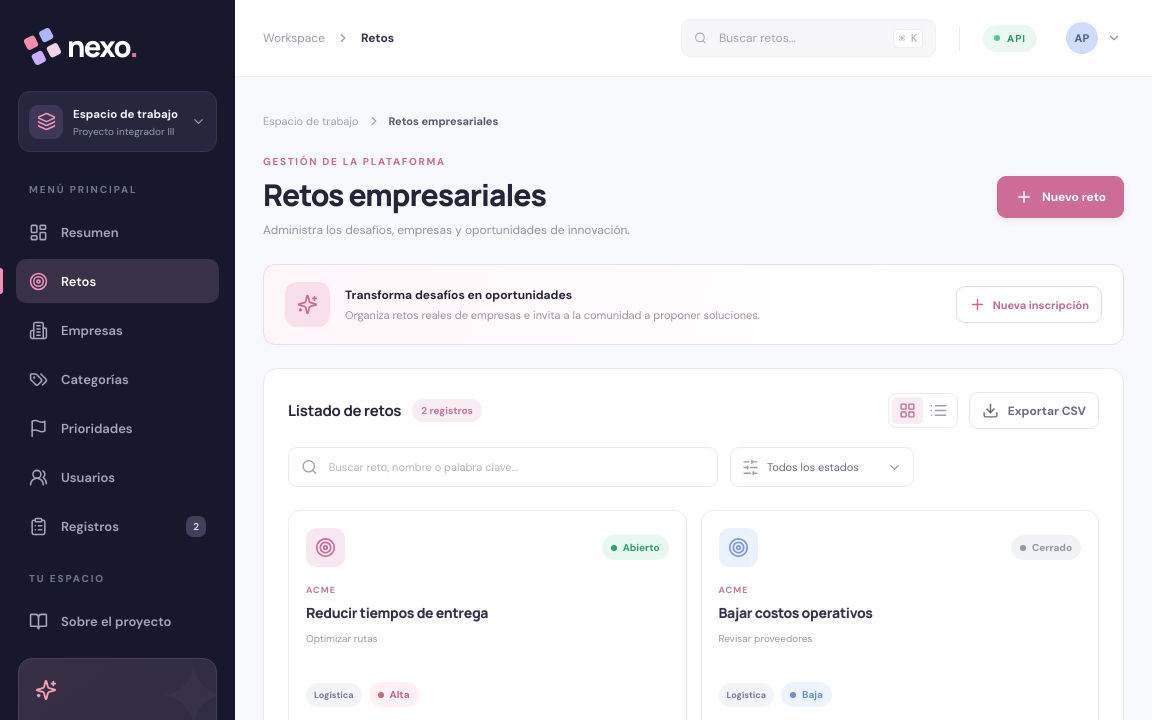
PlatformApp · autenticación › cierra la sesión desde el menú de cuenta
Expected: the heading "Retos empresariales" is shown, [263, 174, 546, 215]
Click the button with aria-label "Abrir menú de cuenta" at coordinates (1092, 38), box [1060, 16, 1124, 60]
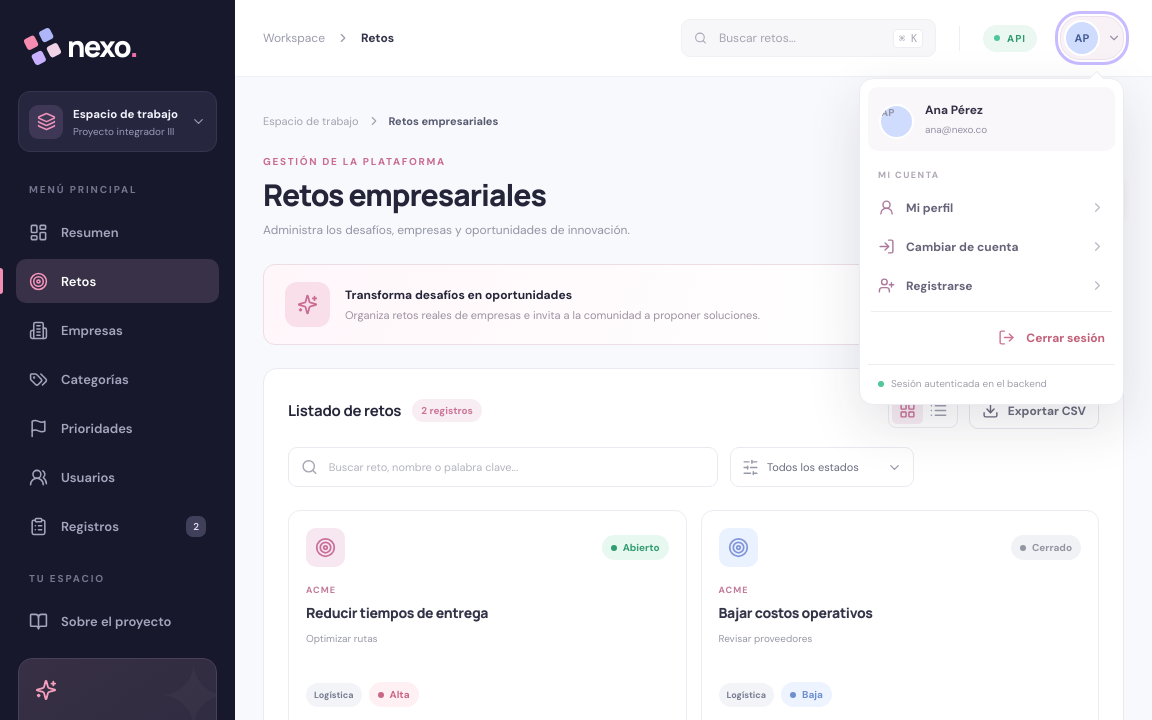
Click the menu item "Cerrar sesión" at coordinates (992, 338), box [868, 318, 1115, 357]
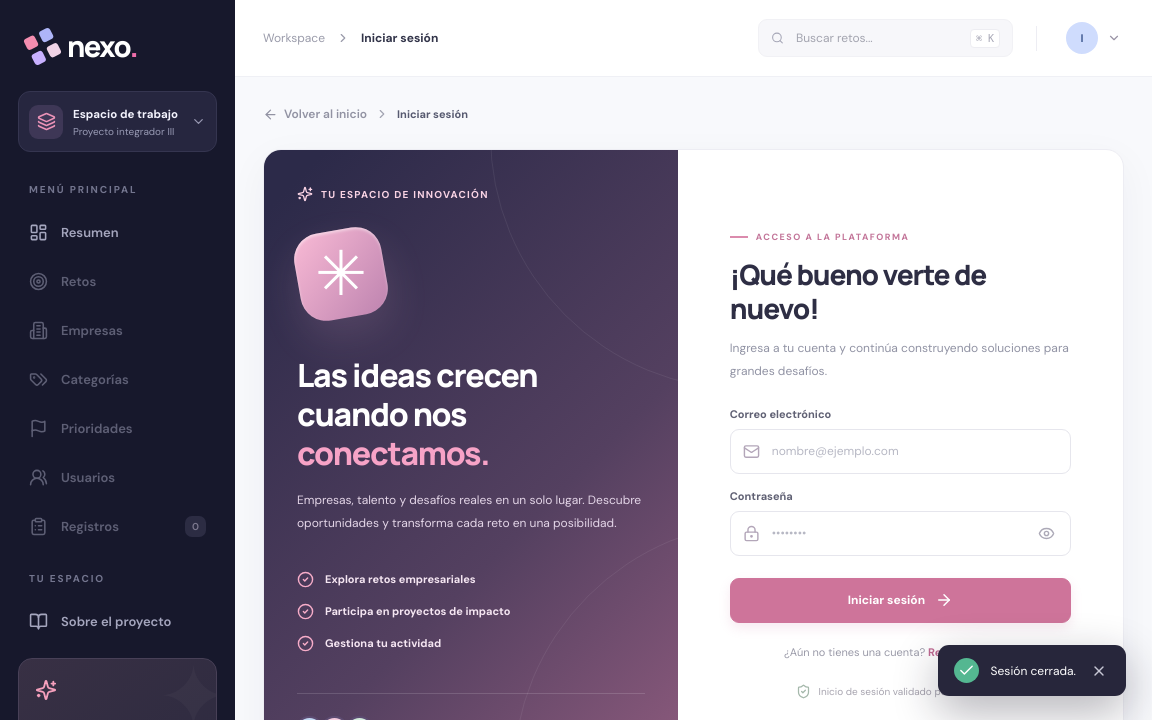
Expected: the heading "¡Qué bueno verte de nuevo!" is shown, [730, 255, 986, 327]
Expected: the message reads "Sesión cerrada.", [991, 662, 1076, 678]
